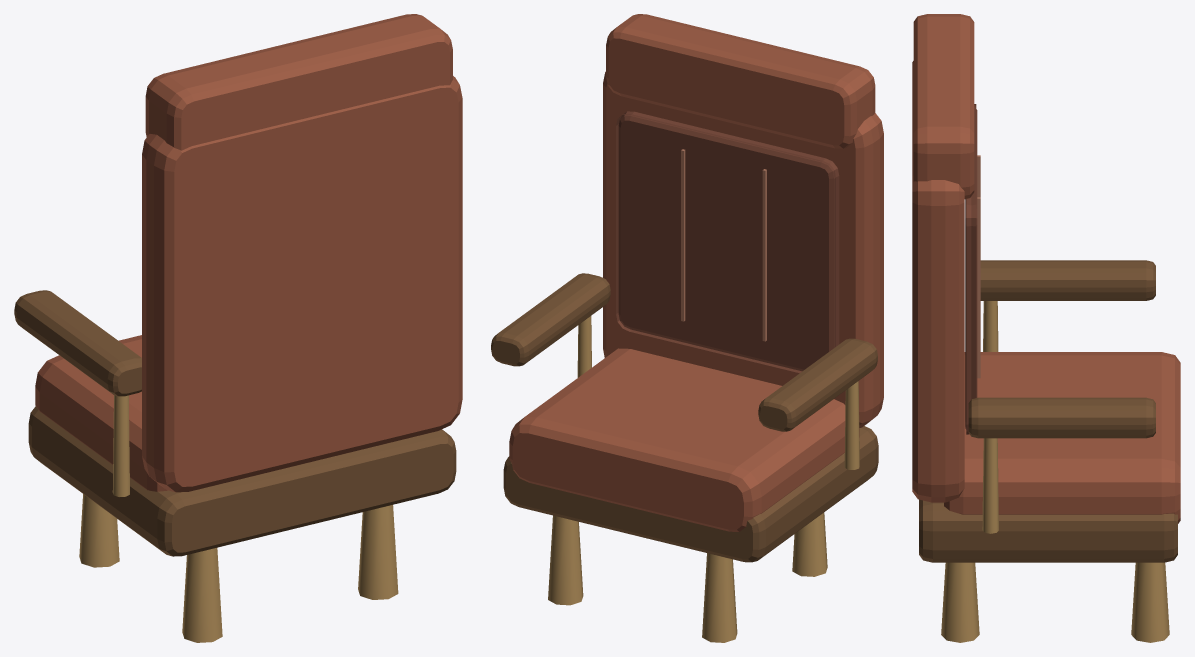
The model's file is seat_vintage.glb.
The picture shows the model from 3 angles, left to right: view 1: azimuth 30°, elevation 25°; view 2: azimuth 150°, elevation 25°; view 3: azimuth 270°, elevation 25°; orthographic projection. The views are drawn at different scales.
Parts seen in each view (by area): view 1: Backrest, Seat base, Headrest, Tapered leg (×3), Cushion, Armrest, Arm support; view 2: Back inset, Cushion, Headrest, Backrest, Seat base, Armrest (×2), Tapered leg (×3), Arm support (×2), Back stitching (×2); view 3: Cushion, Backrest, Armrest (×2), Seat base, Headrest, Tapered leg (×2), Back inset, Arm support (×2), Back stitching.
Boxes of the visible parts, left/top/right/bottom form: Backrest: left=142, top=76, right=462, bottom=492; Seat base: left=28, top=406, right=456, bottom=556; Headrest: left=145, top=14, right=452, bottom=150; Tapered leg (×3): left=79, top=494, right=398, bottom=642; Cushion: left=35, top=335, right=167, bottom=491; Armrest: left=14, top=290, right=141, bottom=396; Arm support: left=112, top=395, right=129, bottom=496; Back inset: left=616, top=111, right=839, bottom=373; Cushion: left=509, top=348, right=859, bottom=531; Headrest: left=606, top=14, right=875, bottom=148; Backrest: left=603, top=71, right=883, bottom=427; Seat base: left=503, top=426, right=878, bottom=562; Armrest (×2): left=491, top=273, right=877, bottom=431; Tapered leg (×3): left=548, top=512, right=827, bottom=642; Arm support (×2): left=577, top=316, right=859, bottom=469; Back stitching (×2): left=681, top=149, right=766, bottom=341; Cushion: left=944, top=352, right=1180, bottom=523; Backrest: left=912, top=61, right=964, bottom=502; Armrest (×2): left=968, top=260, right=1155, bottom=438; Seat base: left=919, top=499, right=1177, bottom=562; Headrest: left=913, top=14, right=974, bottom=198; Tapered leg (×2): left=941, top=562, right=1169, bottom=642; Back inset: left=965, top=104, right=977, bottom=434; Arm support (×2): left=982, top=301, right=998, bottom=533; Back stitching: left=977, top=197, right=980, bottom=378.
Size of the model in its own units: 1.34 by 2.1 by 0.975.
